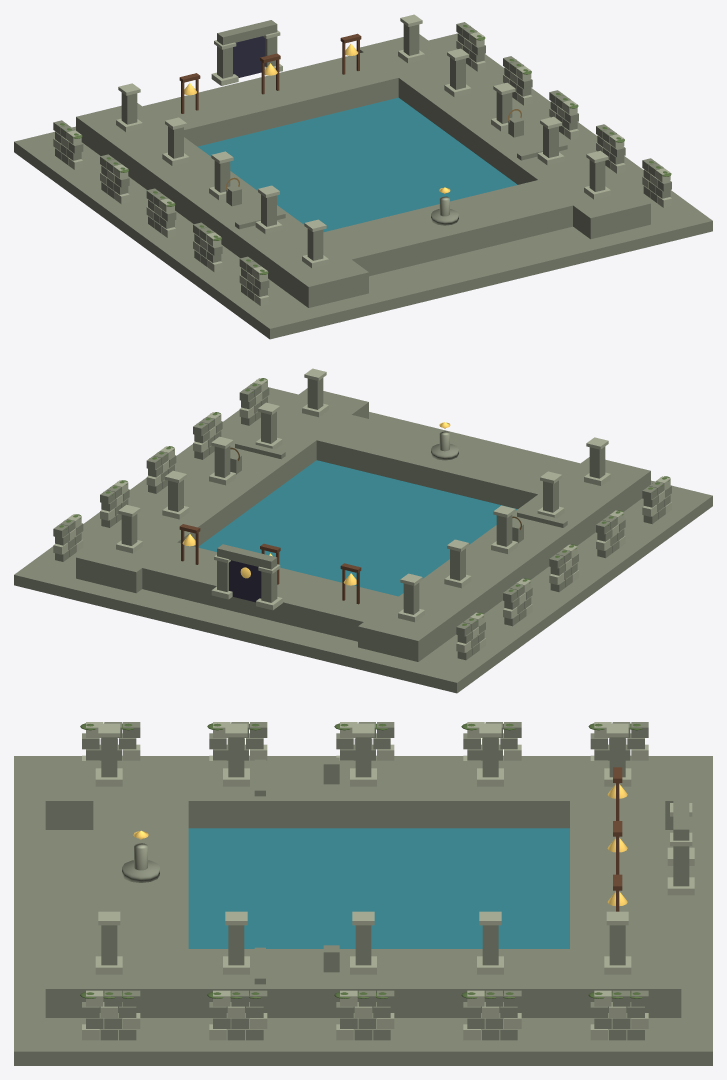
File: abbey_corrupted.glb
3 renders of one model, top to bottom at view 1: azimuth 30°, elevation 25°; view 2: azimuth 150°, elevation 25°; view 3: azimuth 270°, elevation 25°, orthographic. The views are drawn at different scales.
Visible parts, largest first — view 1: upper_walkway (×2), ground, balcony (×2), nave_water, door, lintel; view 2: upper_walkway (×2), ground, nave_water, balcony (×2), door, lintel; view 3: upper_walkway (×2), ground, nave_water, balcony (×2), column (×11), lintel, base.
Boxes of the visible parts, <box> form: upper_walkway (×2): <box>76,34,650,307</box>; ground: <box>14,33,712,339</box>; balcony (×2): <box>114,45,602,276</box>; nave_water: <box>198,97,517,232</box>; door: <box>233,36,265,77</box>; lintel: <box>217,20,277,45</box>; upper_walkway (×2): <box>76,388,650,661</box>; ground: <box>14,387,712,693</box>; nave_water: <box>198,460,517,596</box>; balcony (×2): <box>142,410,590,641</box>; door: <box>229,560,261,602</box>; lintel: <box>217,544,277,569</box>; upper_walkway (×2): <box>45,761,681,1017</box>; ground: <box>14,756,712,1065</box>; nave_water: <box>188,828,569,948</box>; balcony (×2): <box>93,781,665,968</box>; column (×11): <box>101,737,689,965</box>; lintel: <box>673,793,689,840</box>; base: <box>122,860,159,882</box>.
Bounding box in the file's own units: 22 × 3.7 × 22.
